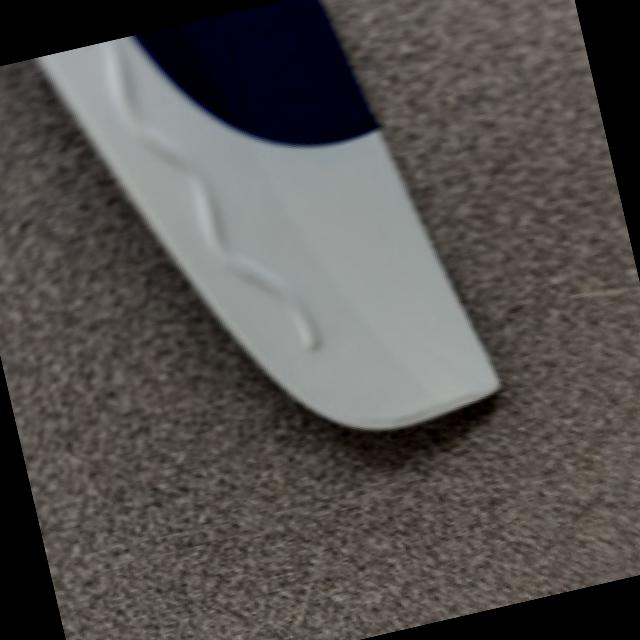healthy: (42, 34, 499, 427)
